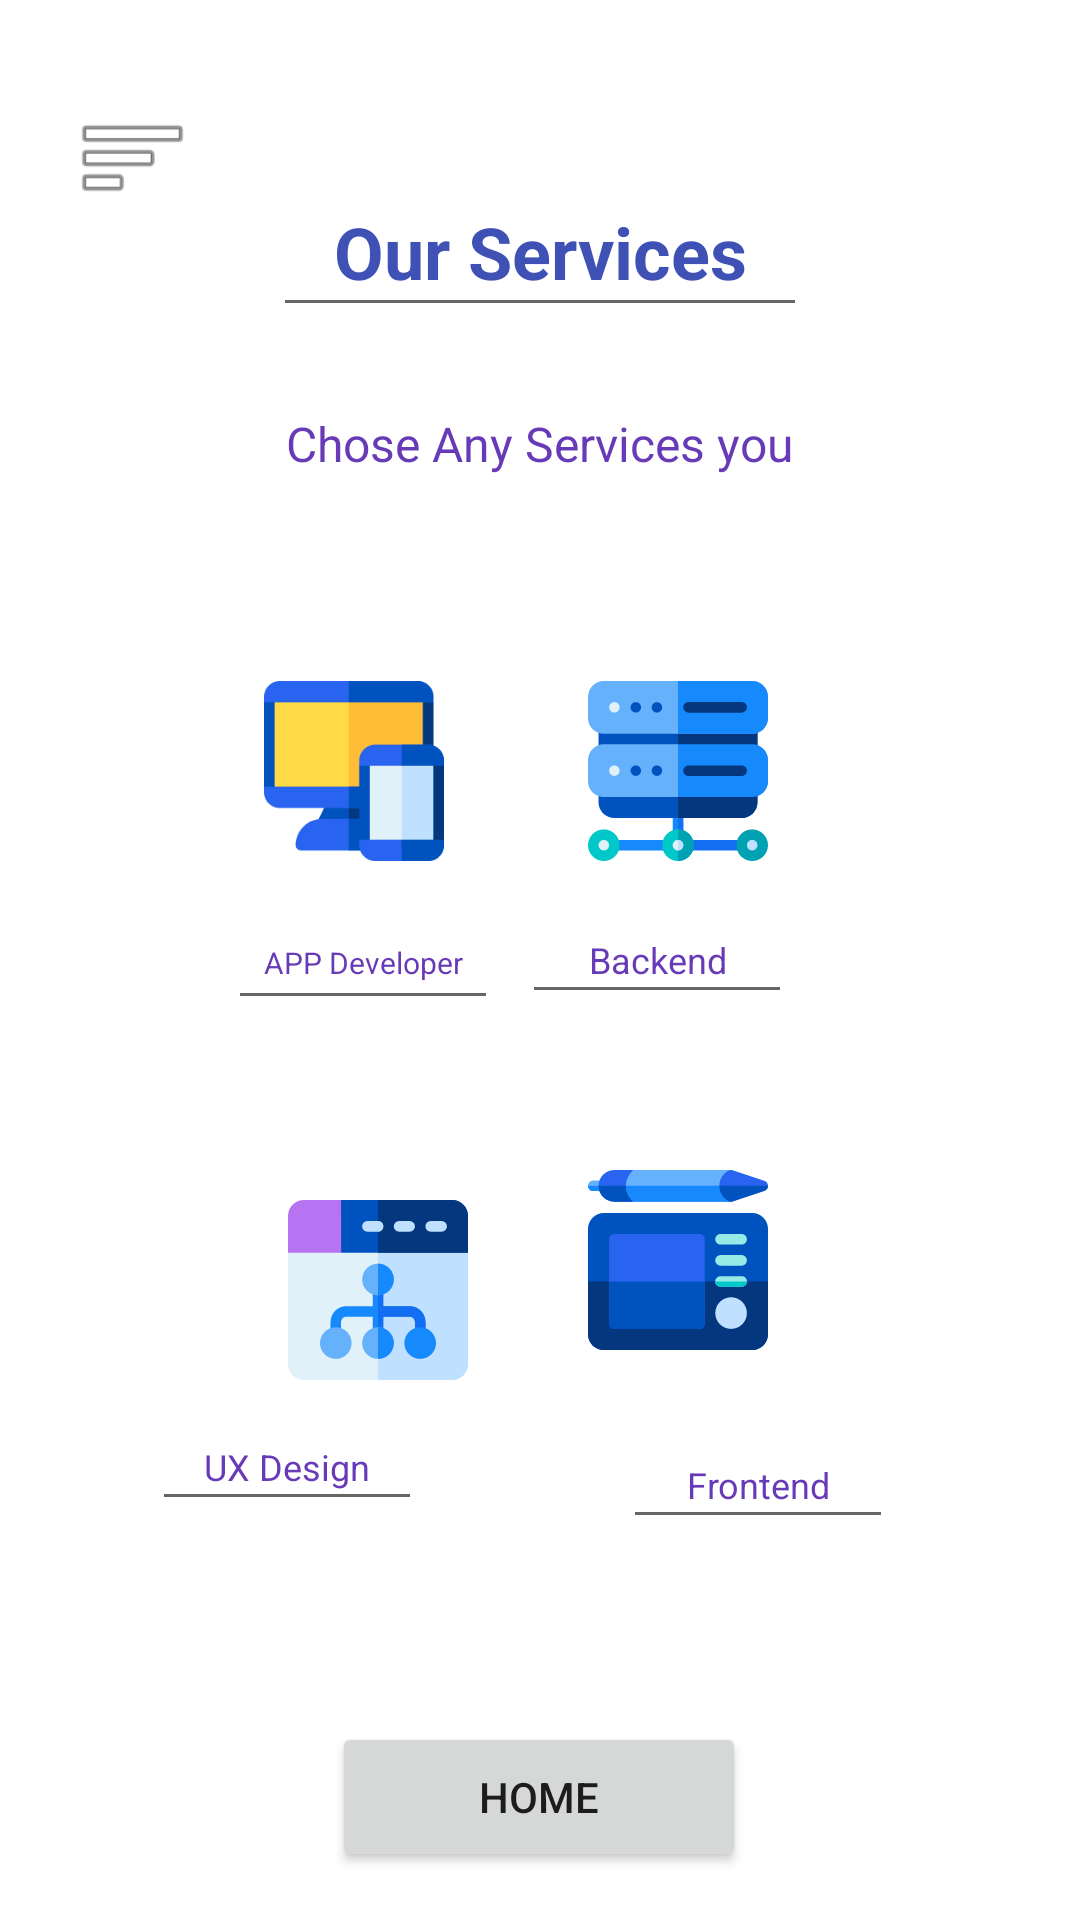

Icons on this 1080*1920 Android screen, each with the point to tap as point (x, y):
graphics: point (678, 1260)
mobile: point (354, 771)
server: point (678, 771)
sort by size: point (132, 158)
